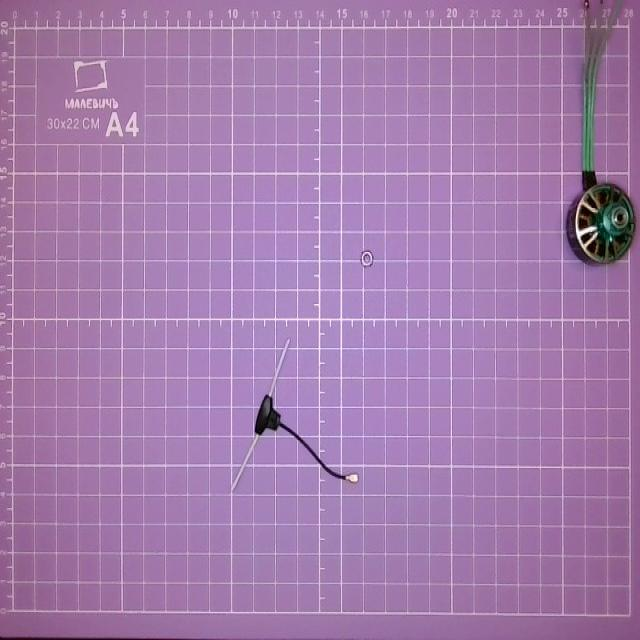antenna: (231, 339, 361, 493)
motor: (559, 2, 639, 277)
screw_M3: (358, 247, 379, 271)
